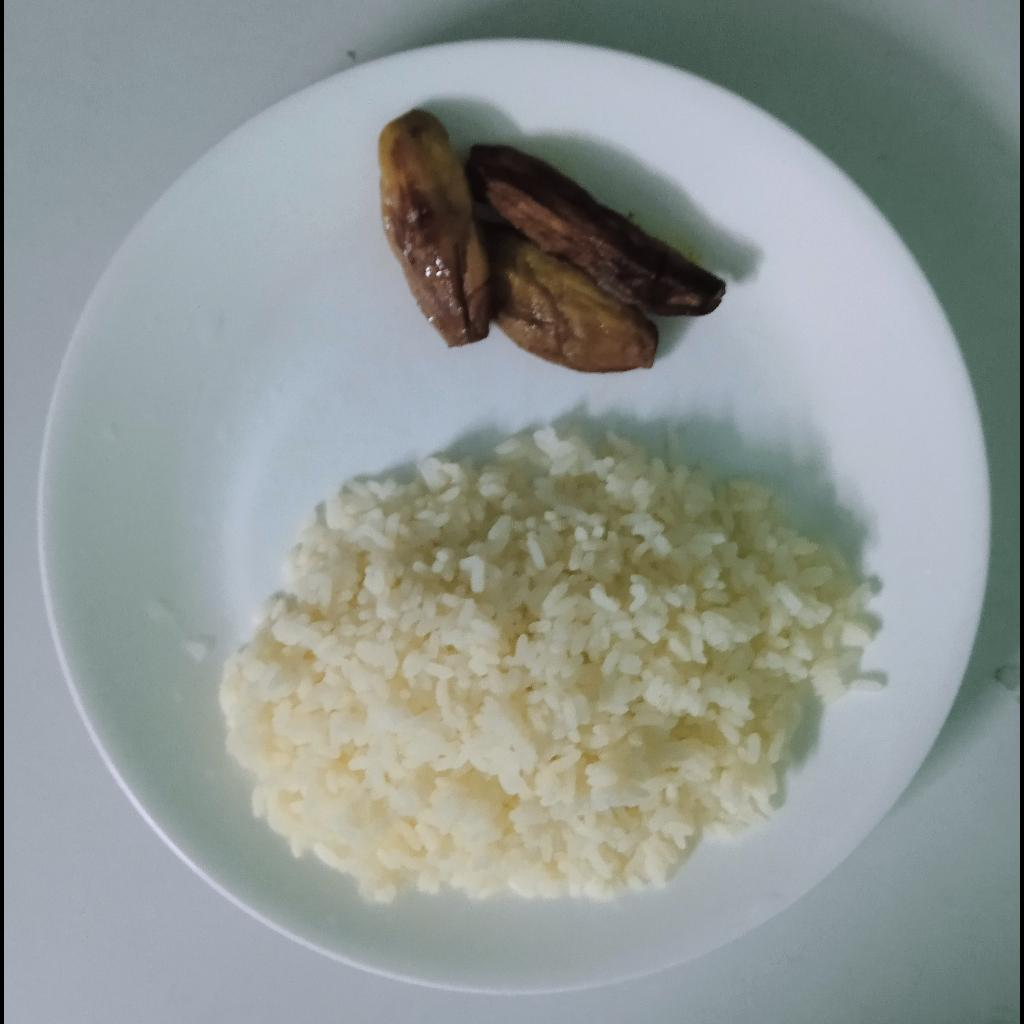potol: (379, 111, 726, 373)
rice: (221, 422, 881, 912)
